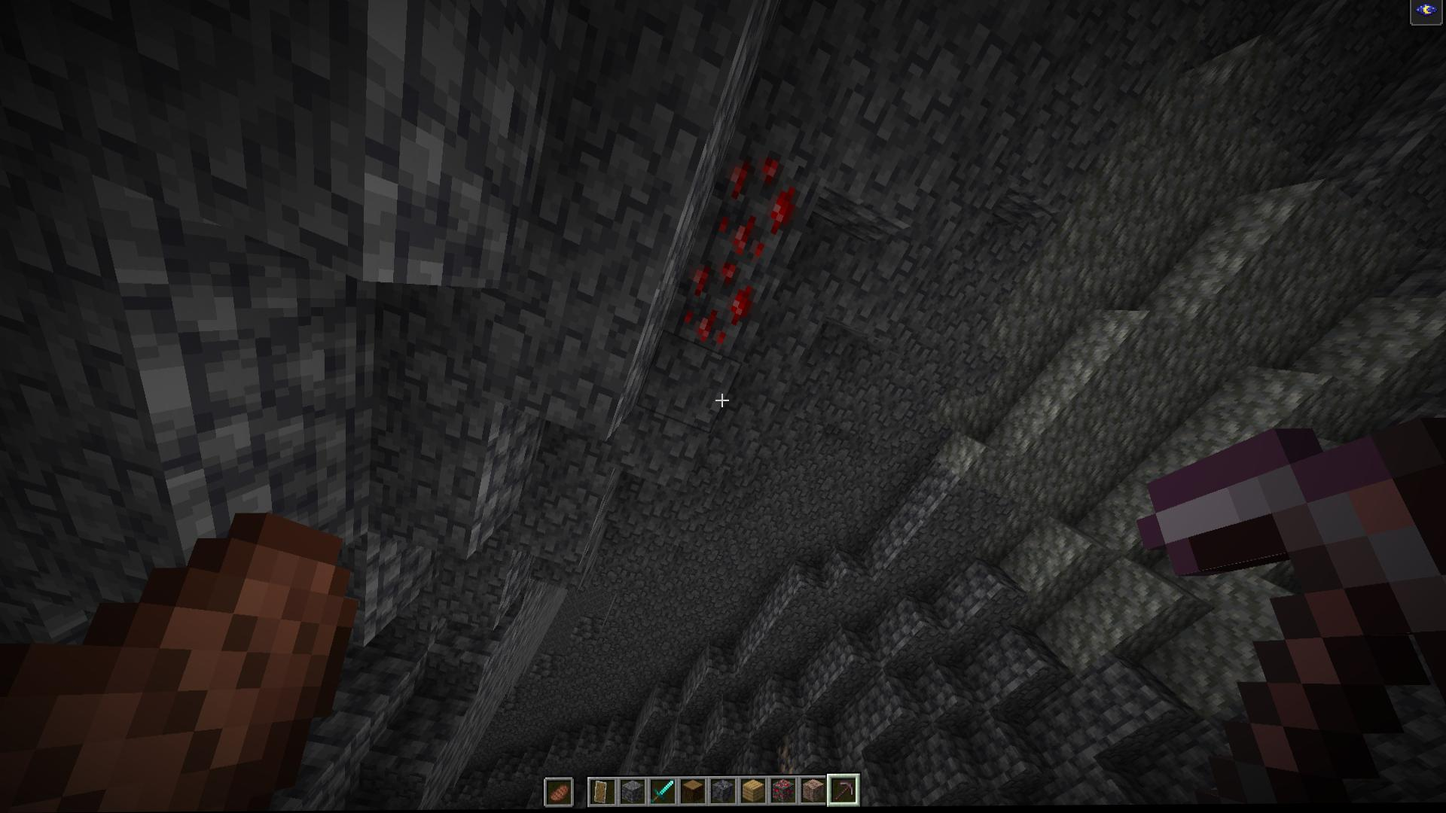iron ore: (767, 733, 804, 776)
redstone ore: (697, 148, 807, 260), (675, 258, 756, 352)
